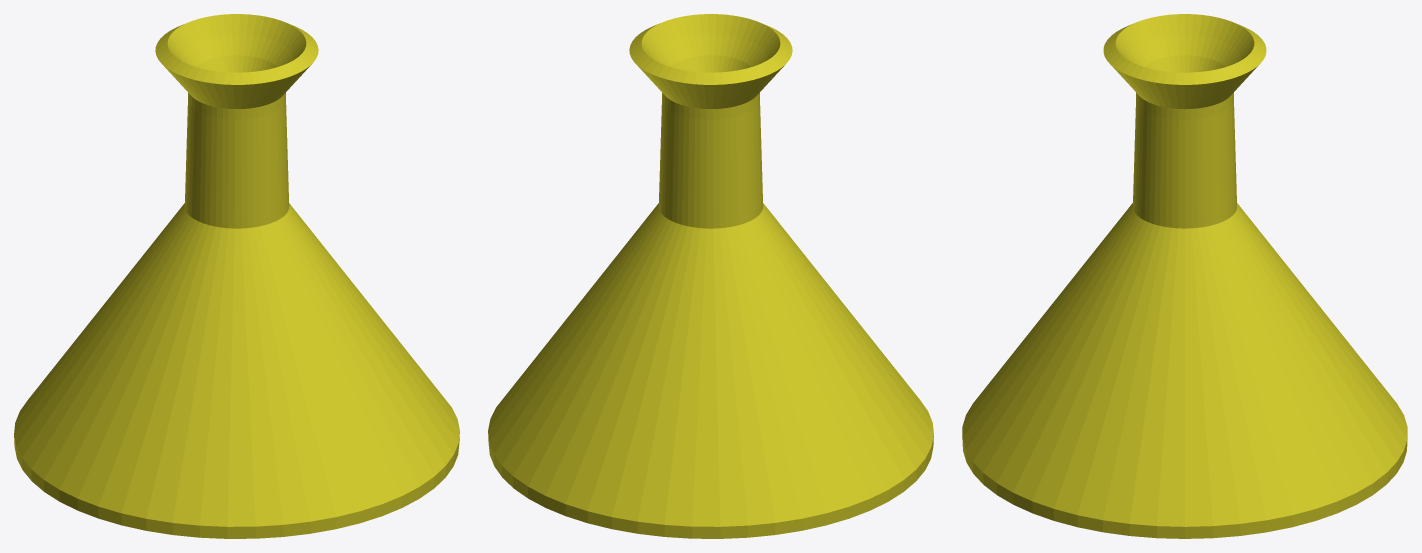
File: erlenmeyerkolben.fbx
3 views of the same model, side by side, from view 1: azimuth 30°, elevation 25°; view 2: azimuth 150°, elevation 25°; view 3: azimuth 270°, elevation 25° (orthographic).
Parts seen in each view (by area): view 1: Sphere; view 2: Sphere; view 3: Sphere.
Boxes of the visible parts, bbox=[...] form: Sphere: bbox=[14, 14, 459, 538]; Sphere: bbox=[488, 14, 933, 538]; Sphere: bbox=[962, 14, 1407, 538].
Bounding box in the file's own units: 0.9635 × 0.9575 × 0.9616.
